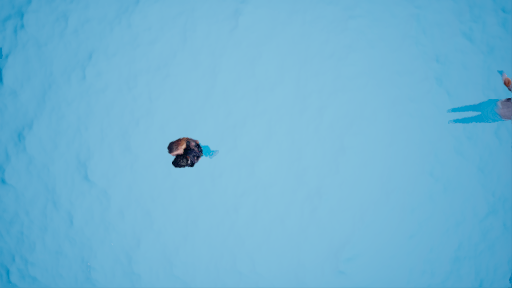person: (166, 137, 219, 170)
